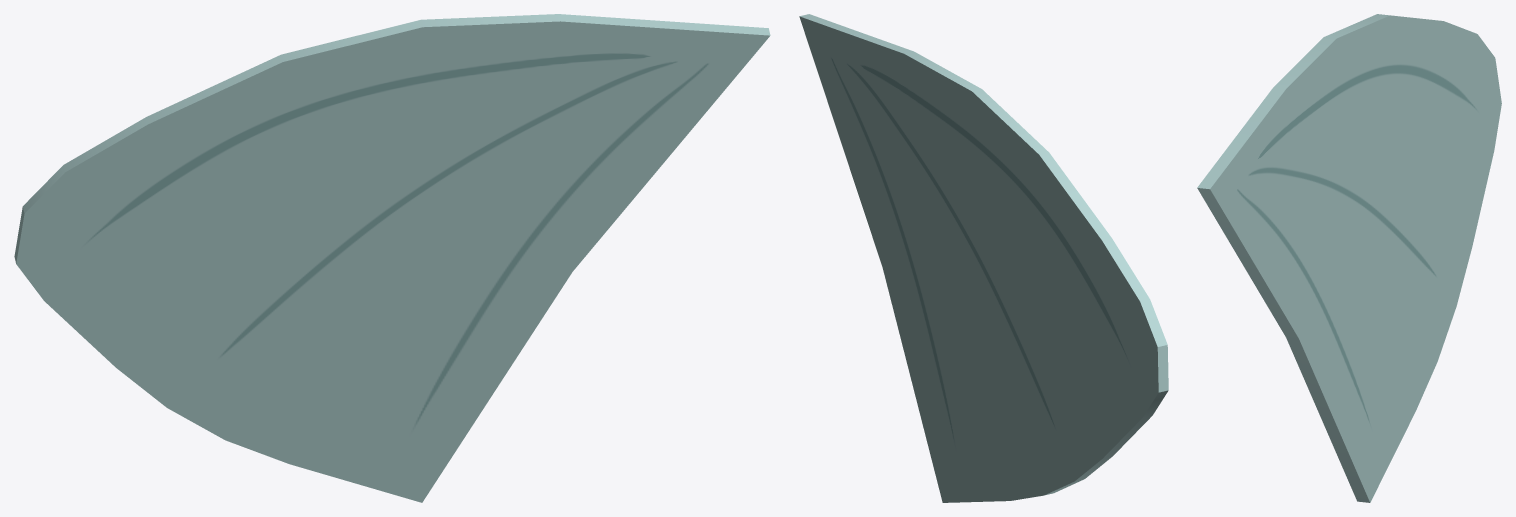
Rendered from Ala3.obj.
The picture shows the model from 3 angles, left to right: view 1: azimuth 30°, elevation 25°; view 2: azimuth 150°, elevation 25°; view 3: azimuth 270°, elevation 25°; orthographic projection. The views are drawn at different scales.
Visible parts, largest first — view 1: pCube3; view 2: pCube3; view 3: pCube3.
Boxes of the visible parts, box(x1,y1,x2,y2) form: pCube3: box(14, 14, 770, 502); pCube3: box(799, 14, 1168, 502); pCube3: box(1197, 14, 1501, 502).
Size of the model in its own units: 0.6461 by 0.5072 by 0.3064.
Materials: 1 (1 with a texture image).
